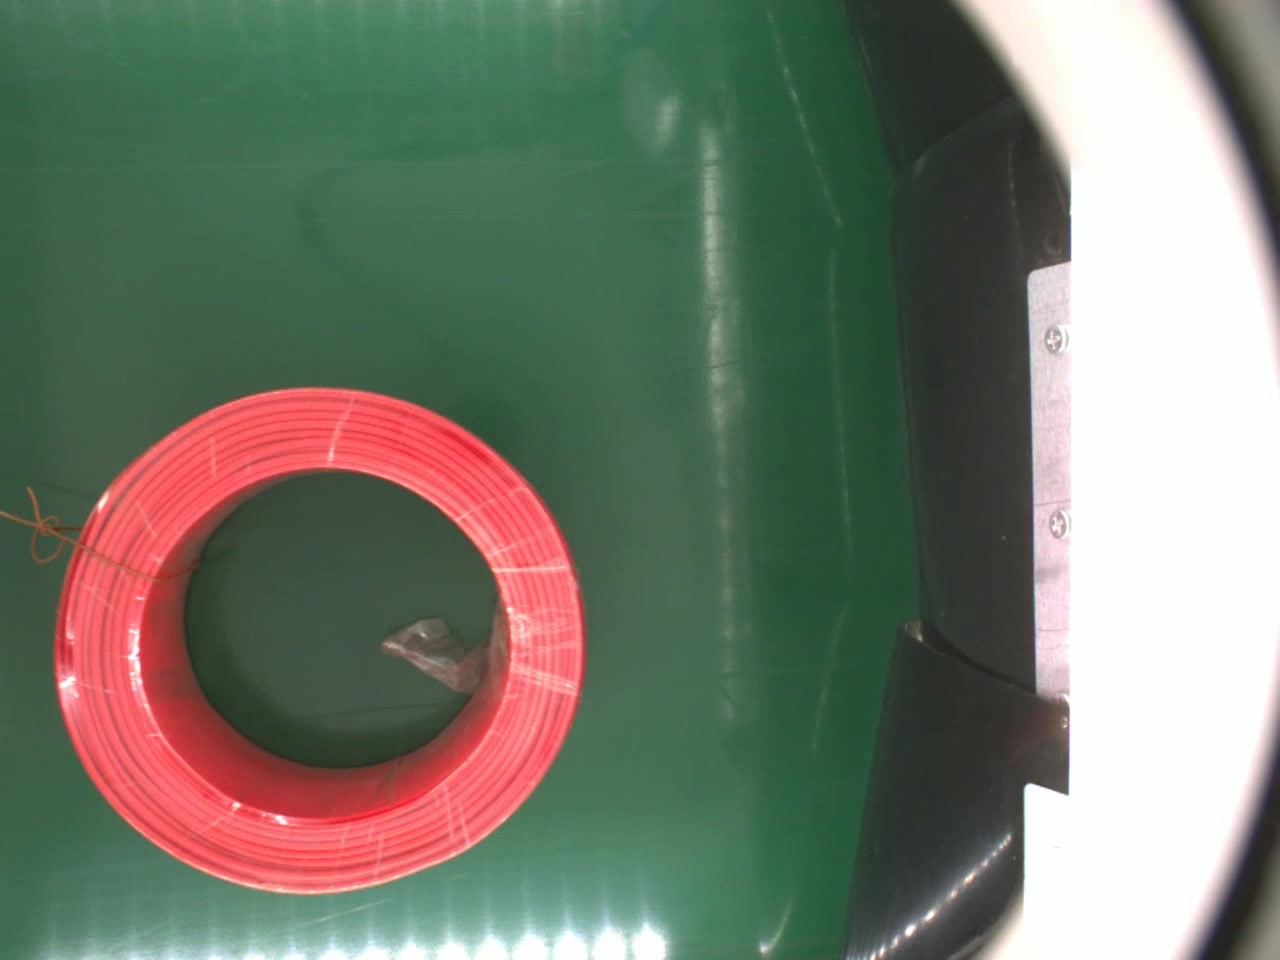red: (54, 386, 583, 902)
